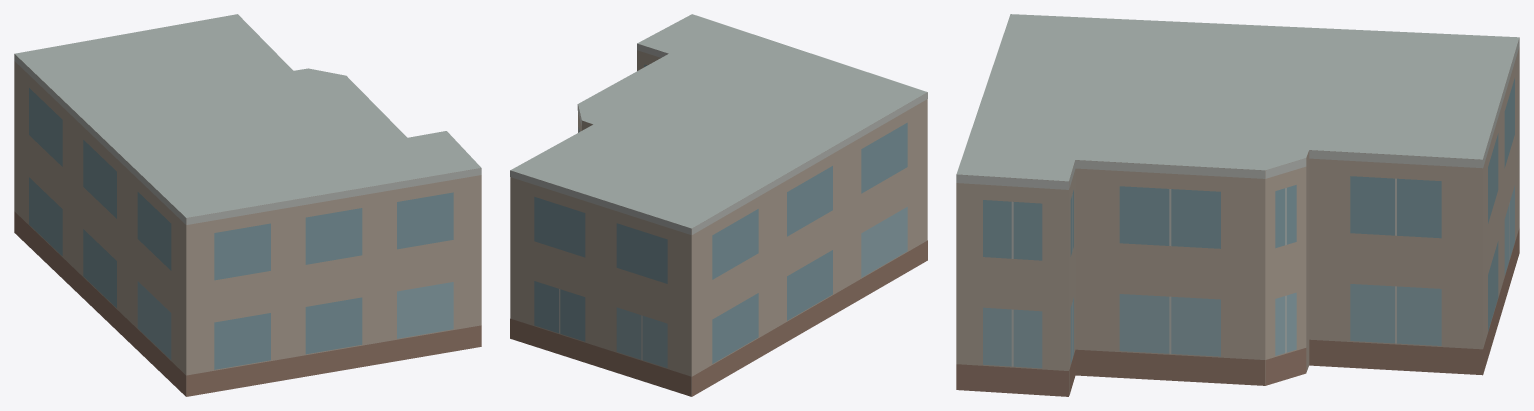
File: survey-upis-32923653.glb
The picture shows the model from 3 angles, left to right: view 1: azimuth 30°, elevation 25°; view 2: azimuth 150°, elevation 25°; view 3: azimuth 270°, elevation 25°; orthographic projection. The views are drawn at different scales.
Visible parts, largest first — view 1: survey-upis-32923653.tmp; view 2: survey-upis-32923653.tmp; view 3: survey-upis-32923653.tmp.
Boxes of the visible parts, <box> form: survey-upis-32923653.tmp: <box>14,14,481,396</box>; survey-upis-32923653.tmp: <box>510,14,927,396</box>; survey-upis-32923653.tmp: <box>956,14,1519,396</box>.
Bounding box in the file's own units: 10.17 × 6.1 × 14.46.
